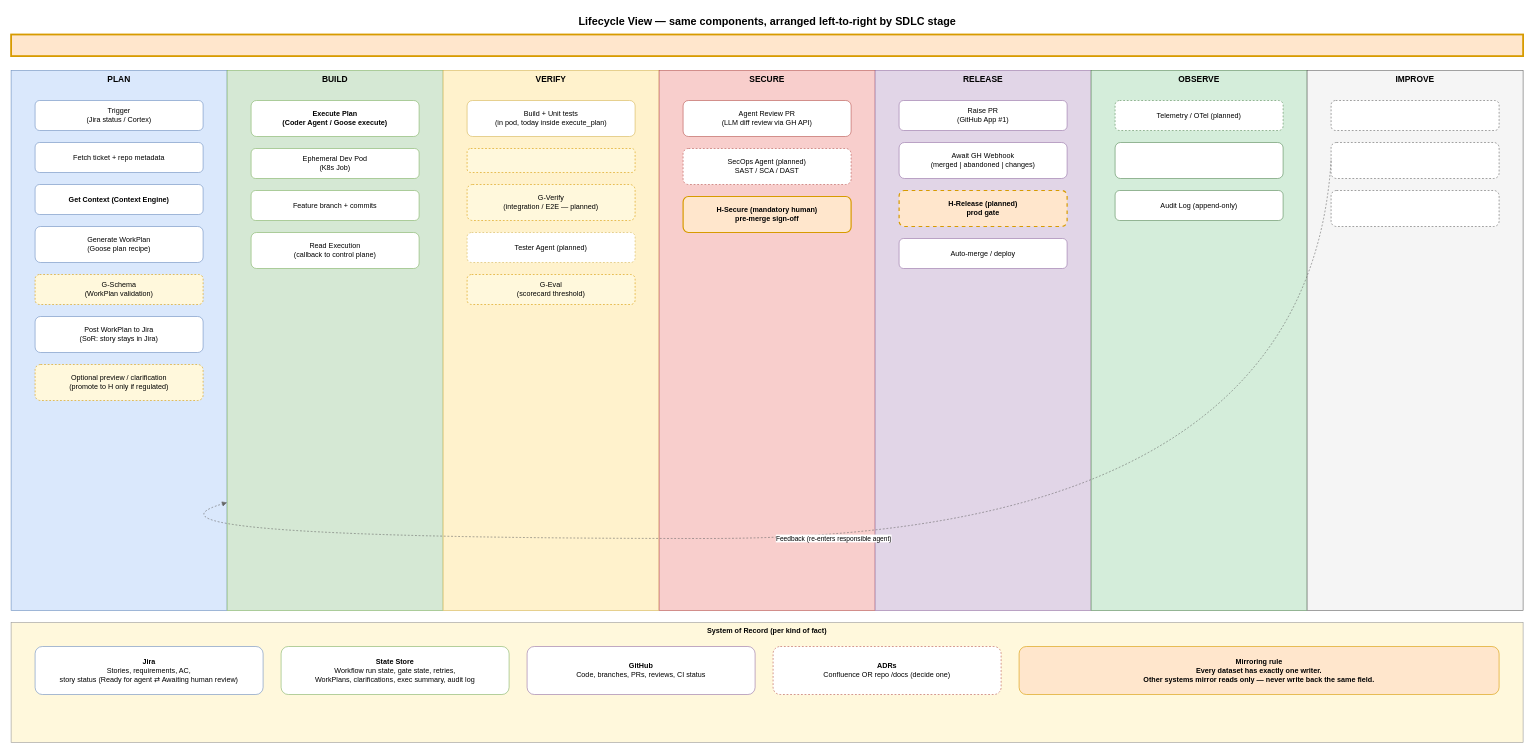
The diagram is 1534 pixels wide and 753 high, and some of its shapes have lost their labels. The centre of each missing label's shape, as x and y in pixels:
Backlog refinement (Jira: new tickets): point (1414, 208)
Eval / Scorecard harness (planned): point (1414, 115)
Feedback to responsible agent (NOT to Plan stage): point (1414, 160)
G-Build (auto): point (550, 160)
Jira owns the story. State Store owns the run. They never own the same field.: point (767, 45)
Token usage / cost (LiteLLM callbacks — built): point (1198, 160)
